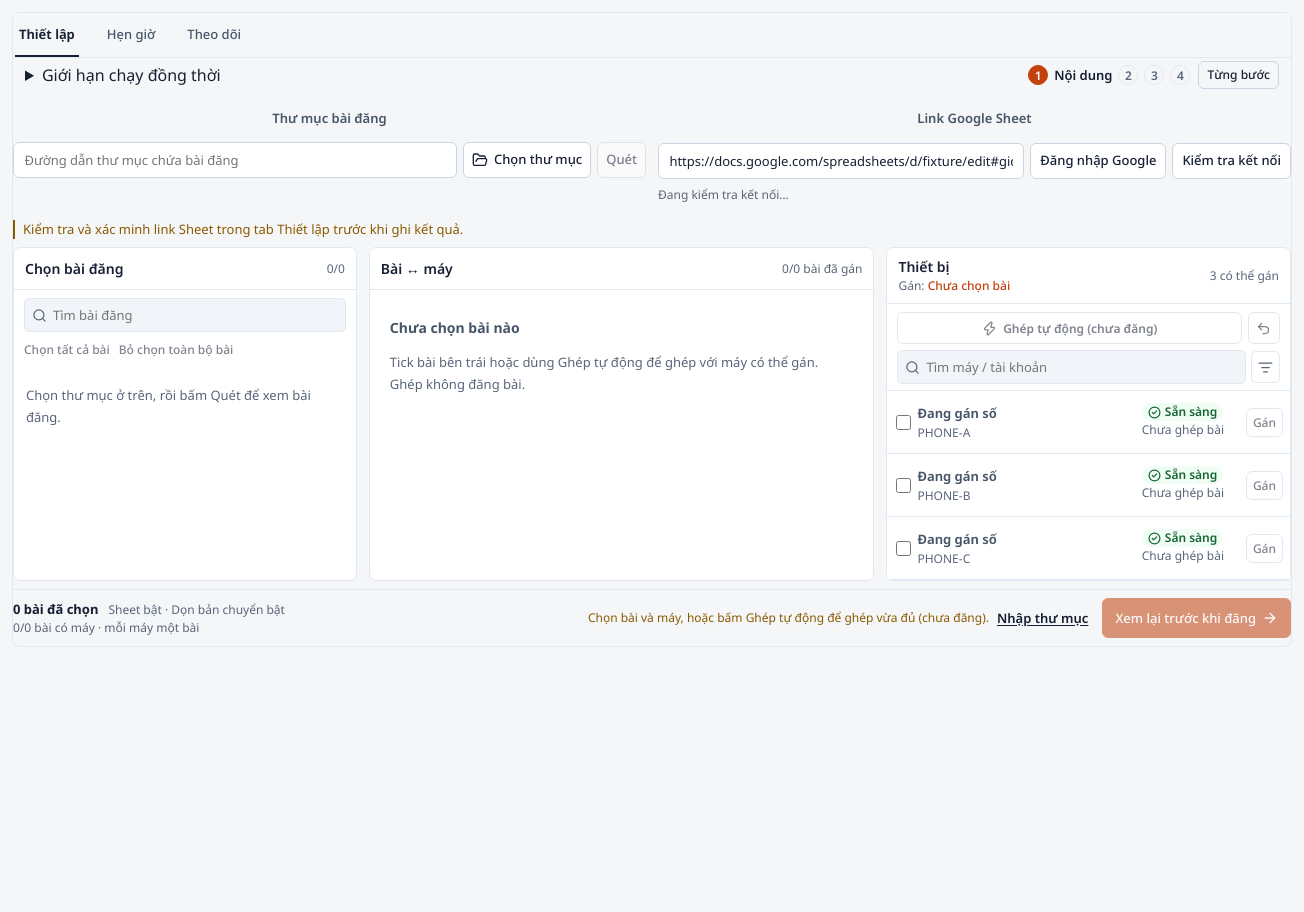
Test case: production publish wizard › shows a selected device's pending post immediately, then clears the block on publish update
The image size is (1304, 912).
Click the button "Chọn thư mục": (527, 160) x1=463 y1=142 x2=591 y2=178
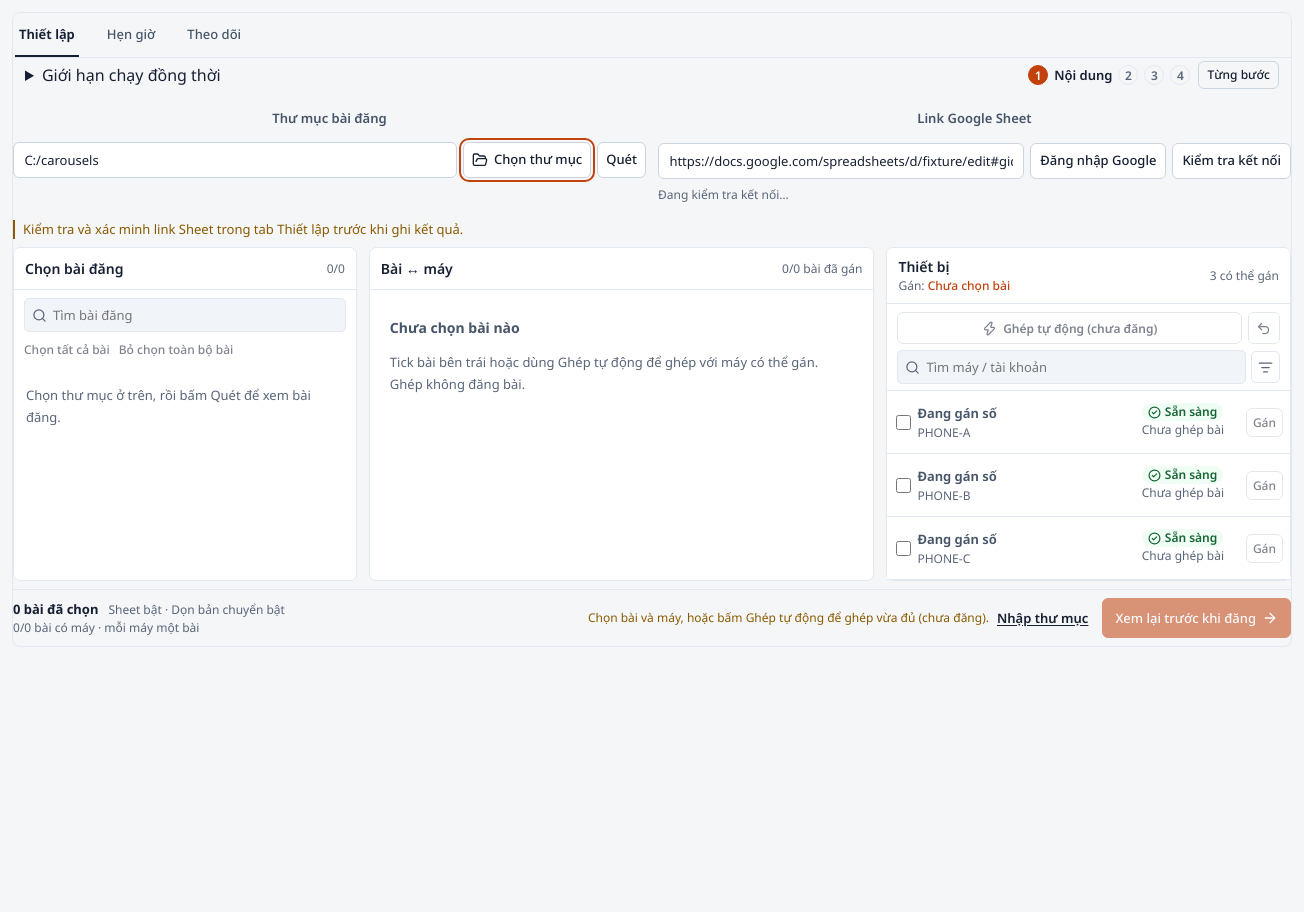
Click the button "Quét": (622, 160) x1=597 y1=142 x2=646 y2=178
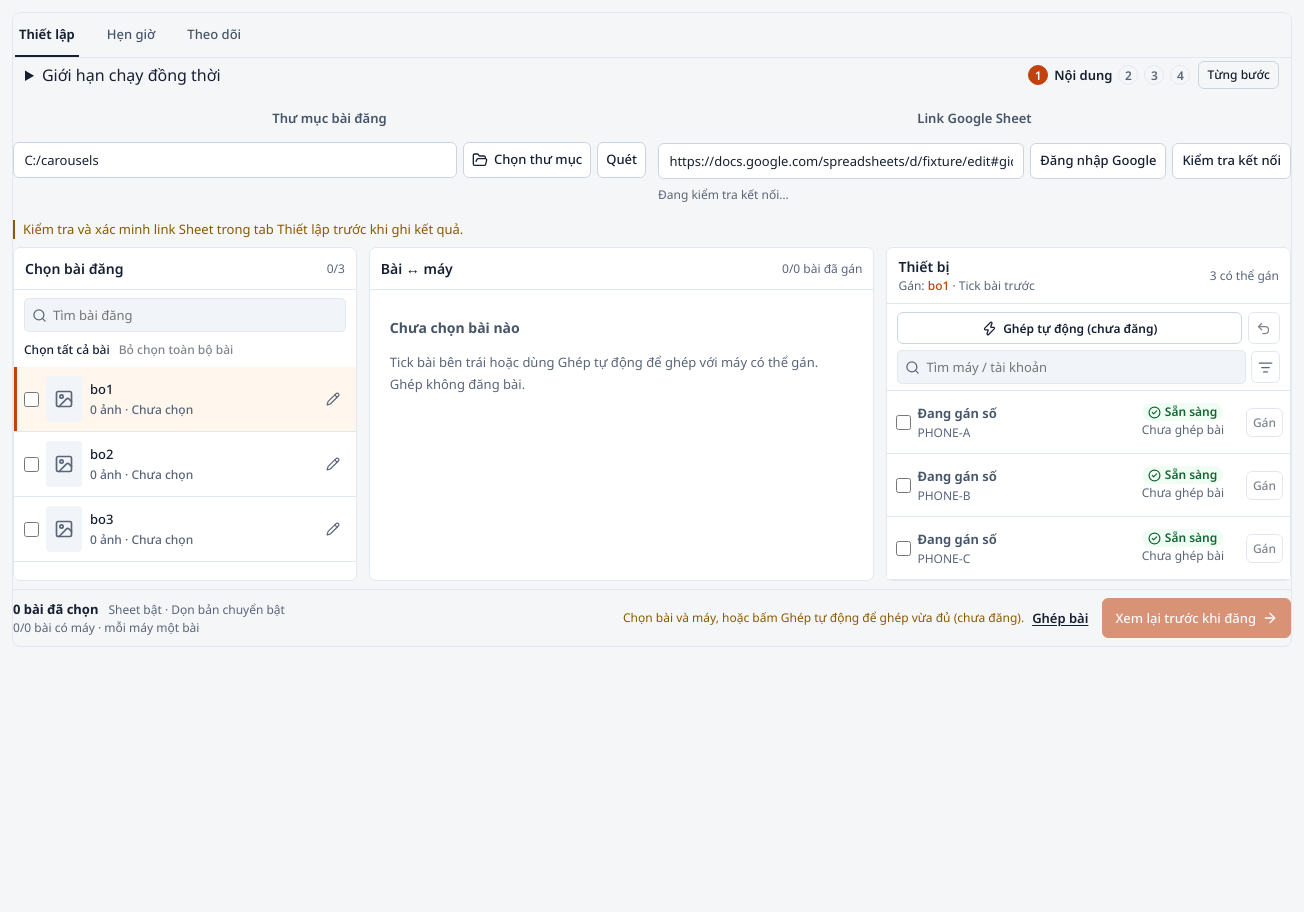
Click the checkbox named "Chọn bo1": (32, 399) x1=24 y1=392 x2=39 y2=407
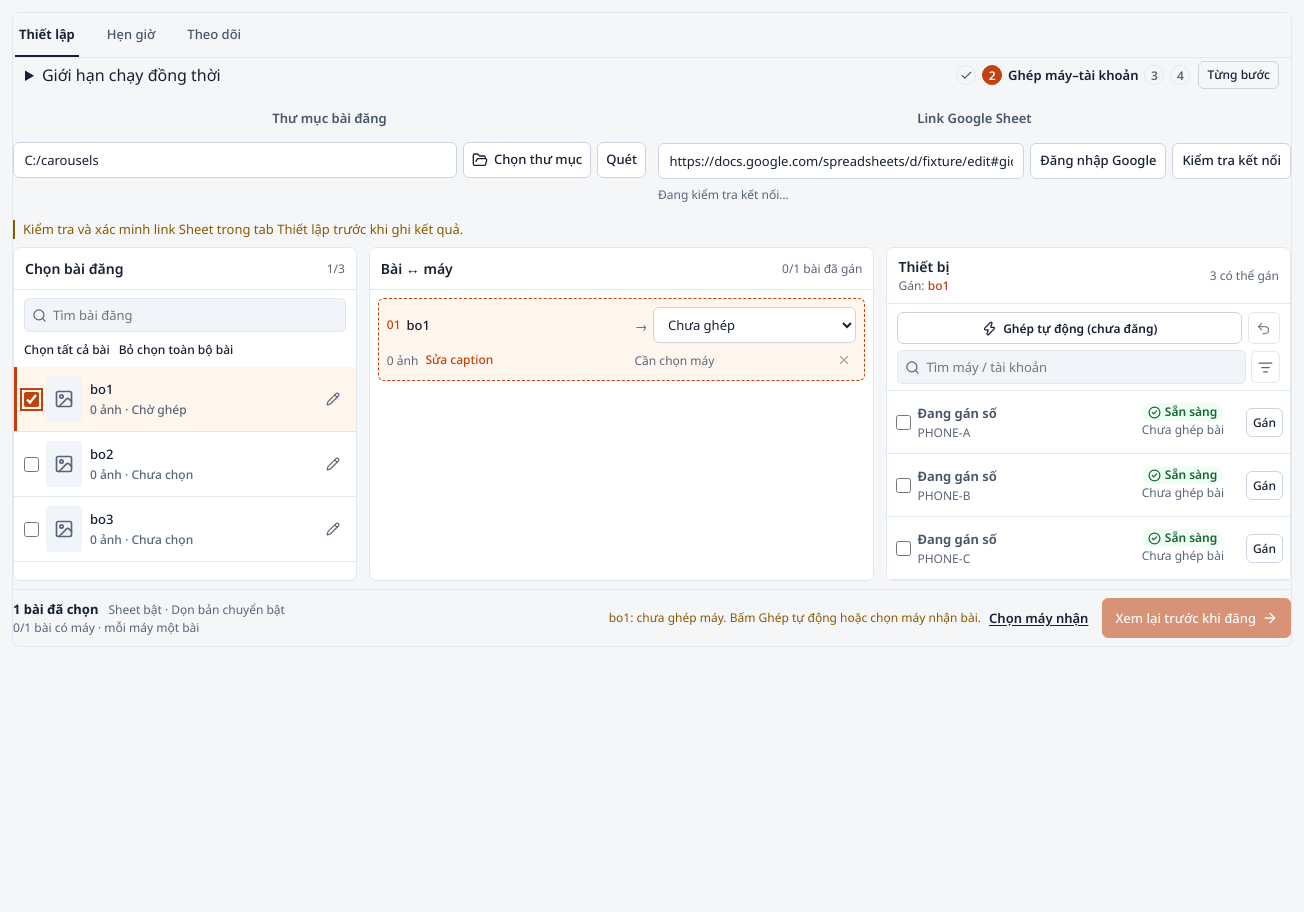
Select "Đang gán số · PHONE-A" in the dropdown named "Máy nhận bài bo1": (754, 325) x1=652 y1=307 x2=856 y2=343
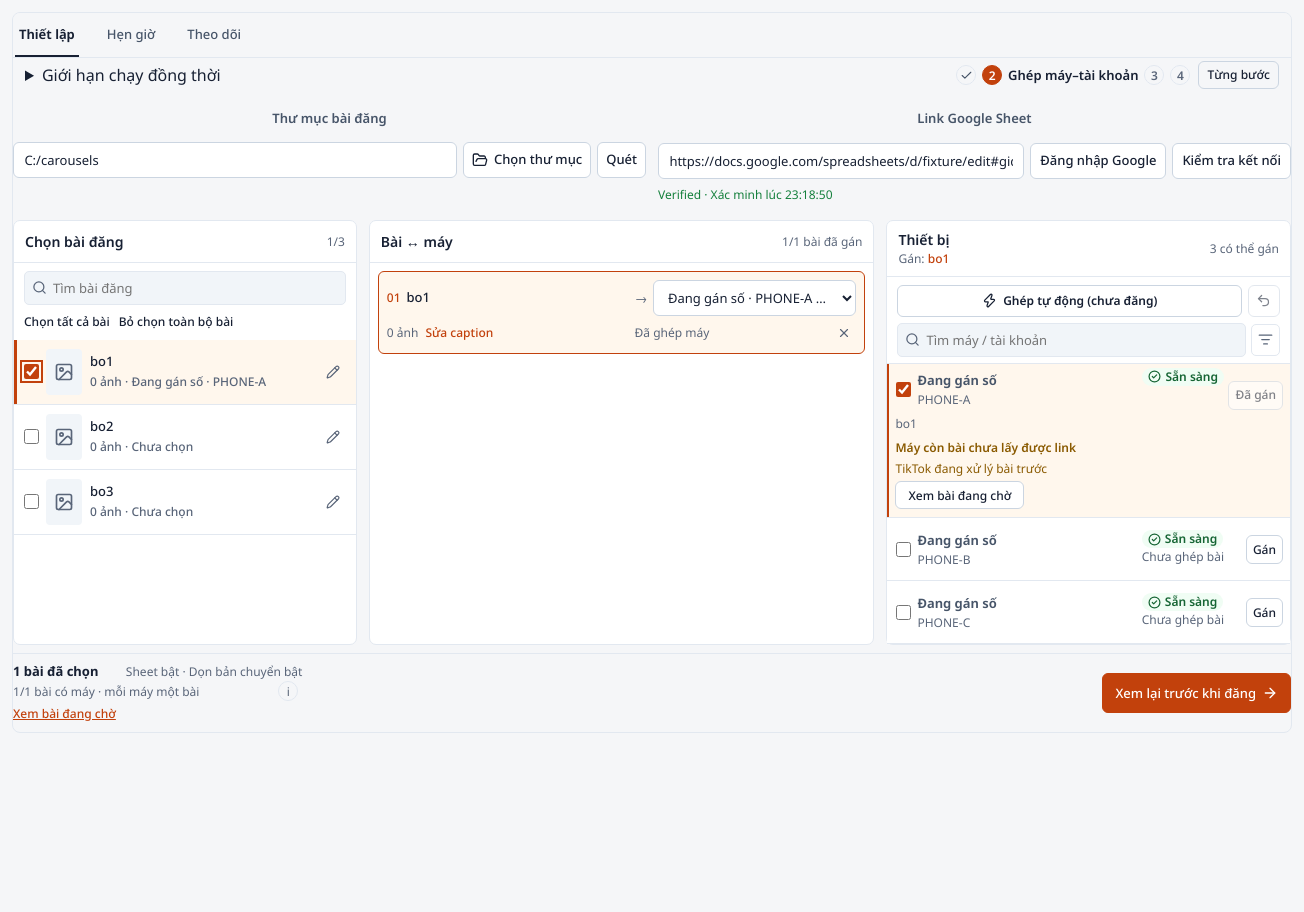
Check: the text "Máy còn bài chưa lấy được link" is shown, box x1=896 y1=439 x2=1076 y2=456
Check: the button "Xem lại trước khi đăng" is enabled, box x1=1102 y1=673 x2=1291 y2=713
